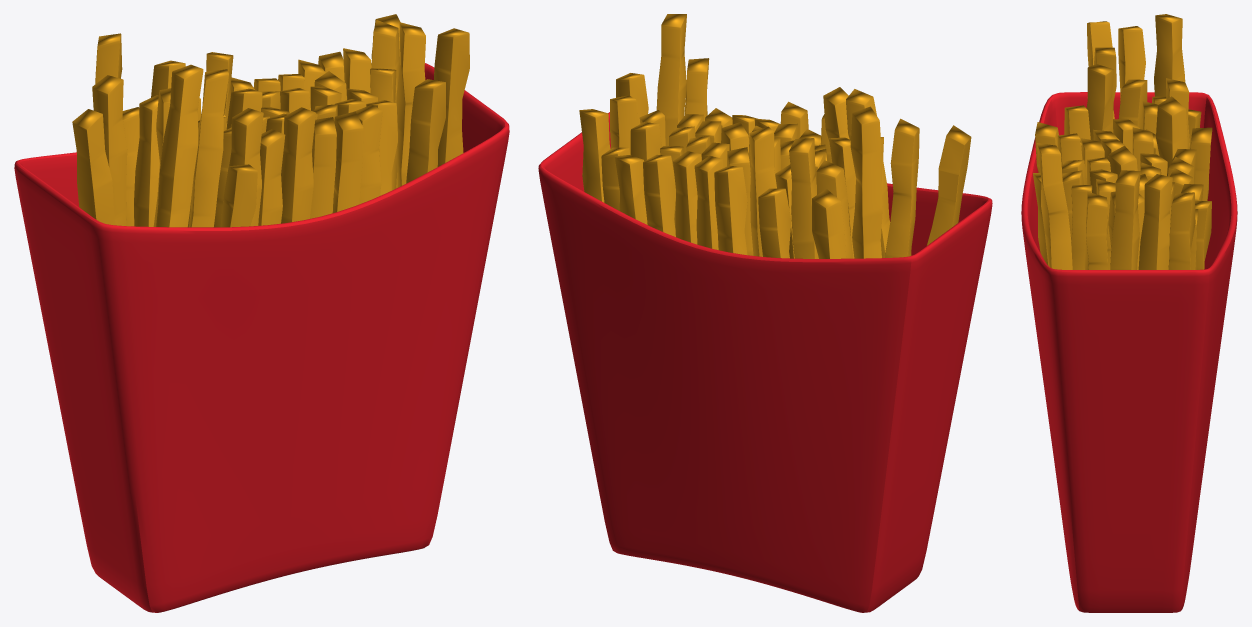
File: french_fries.fbx
The picture shows the model from 3 angles, left to right: view 1: azimuth 30°, elevation 25°; view 2: azimuth 150°, elevation 25°; view 3: azimuth 270°, elevation 25°; orthographic projection. The views are drawn at different scales.
Parts seen in each view (by area): view 1: bag, fries.035, fries.037, fries.019, fries.029, fries.046, fries.018, fries.045, fries.004, fries.024, fries.026, fries.041 (+15 smaller); view 2: bag, fries.020, fries.018, fries.046, fries.023, fries.019, fries.017, fries.011, fries.014, fries.005, fries.033, fries.030 (+15 smaller); view 3: bag, fries.046, fries.003, fries.004, fries.020, fries.005, fries.037, fries.047, fries.014, fries.018, fries.027, fries.025 (+23 smaller).
Part boxes in pixels (bbox=[...]): bag: bbox=[14, 63, 509, 612]; fries.035: bbox=[156, 64, 203, 227]; fries.037: bbox=[189, 69, 228, 227]; fries.019: bbox=[72, 109, 115, 225]; fries.029: bbox=[281, 107, 315, 223]; fries.046: bbox=[434, 28, 469, 166]; fries.018: bbox=[92, 75, 127, 225]; fries.045: bbox=[406, 79, 445, 183]; fries.004: bbox=[396, 22, 425, 187]; fries.024: bbox=[134, 95, 159, 226]; fries.026: bbox=[332, 111, 363, 212]; fries.041: bbox=[310, 117, 336, 218]; bag: bbox=[538, 112, 992, 612]; fries.020: bbox=[850, 106, 882, 258]; fries.018: bbox=[885, 118, 919, 257]; fries.046: bbox=[656, 14, 686, 145]; fries.023: bbox=[789, 138, 818, 258]; fries.019: bbox=[926, 125, 971, 245]; fries.017: bbox=[714, 165, 747, 255]; fries.011: bbox=[643, 154, 675, 236]; fries.014: bbox=[749, 126, 776, 256]; fries.005: bbox=[579, 109, 610, 202]; fries.033: bbox=[758, 188, 791, 258]; fries.030: bbox=[812, 189, 846, 258]; bag: bbox=[1021, 92, 1237, 612]; fries.046: bbox=[1036, 143, 1072, 269]; fries.003: bbox=[1138, 174, 1172, 269]; fries.004: bbox=[1110, 170, 1140, 269]; fries.020: bbox=[1154, 14, 1185, 96]; fries.005: bbox=[1168, 192, 1195, 269]; fries.037: bbox=[1086, 64, 1113, 140]; fries.047: bbox=[1084, 191, 1107, 269]; fries.014: bbox=[1156, 96, 1187, 176]; fries.018: bbox=[1118, 26, 1145, 100]; fries.027: bbox=[1071, 185, 1092, 269]; fries.025: bbox=[1118, 79, 1147, 129].
Bounding box in the file's own units: 199 × 247 × 100.
